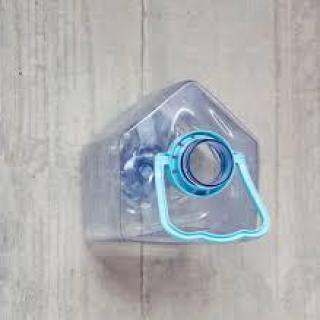Plastic-bottle: (77, 78, 276, 247)
